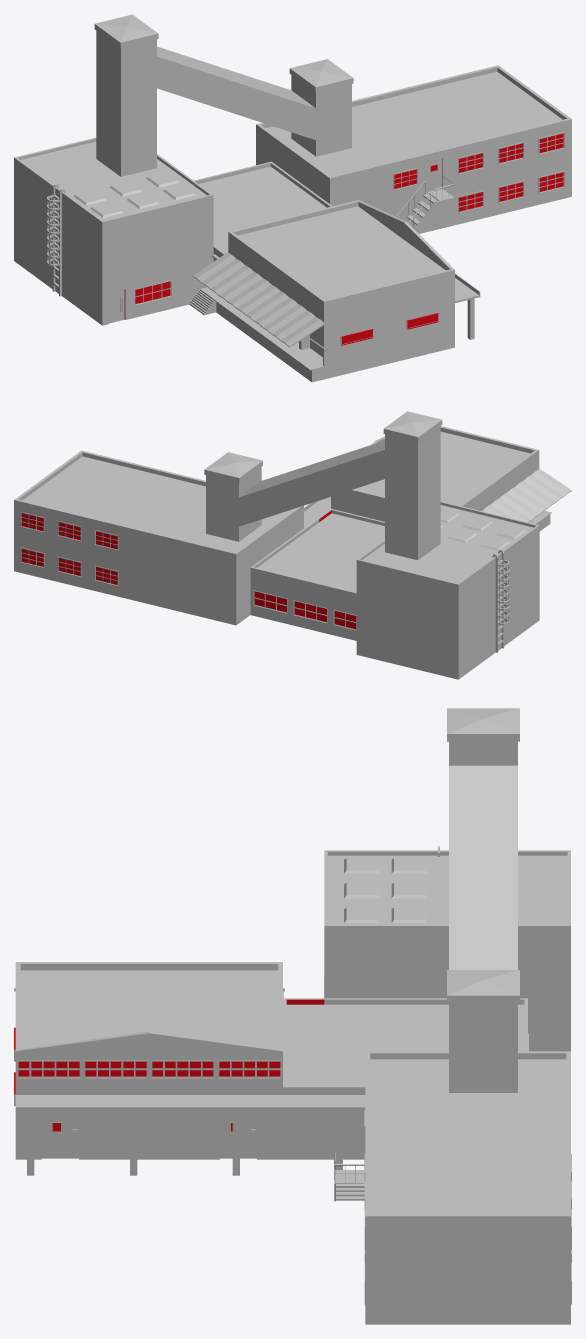
The model's file is SM_infrastructure_buildings_09.gltf.
3 views of the same model, one above another, from view 1: azimuth 30°, elevation 25°; view 2: azimuth 150°, elevation 25°; view 3: azimuth 270°, elevation 25° (orthographic). The views are drawn at different scales.
Visible parts, largest first — view 1: infrastructure_buildings_09; view 2: infrastructure_buildings_09; view 3: infrastructure_buildings_09.
Boxes of the visible parts, x1,y1,x2,y2 form: infrastructure_buildings_09: [14, 14, 571, 382]; infrastructure_buildings_09: [14, 411, 571, 679]; infrastructure_buildings_09: [14, 708, 571, 1324].
Size of the model in its own units: 40 by 18.35 by 28.
